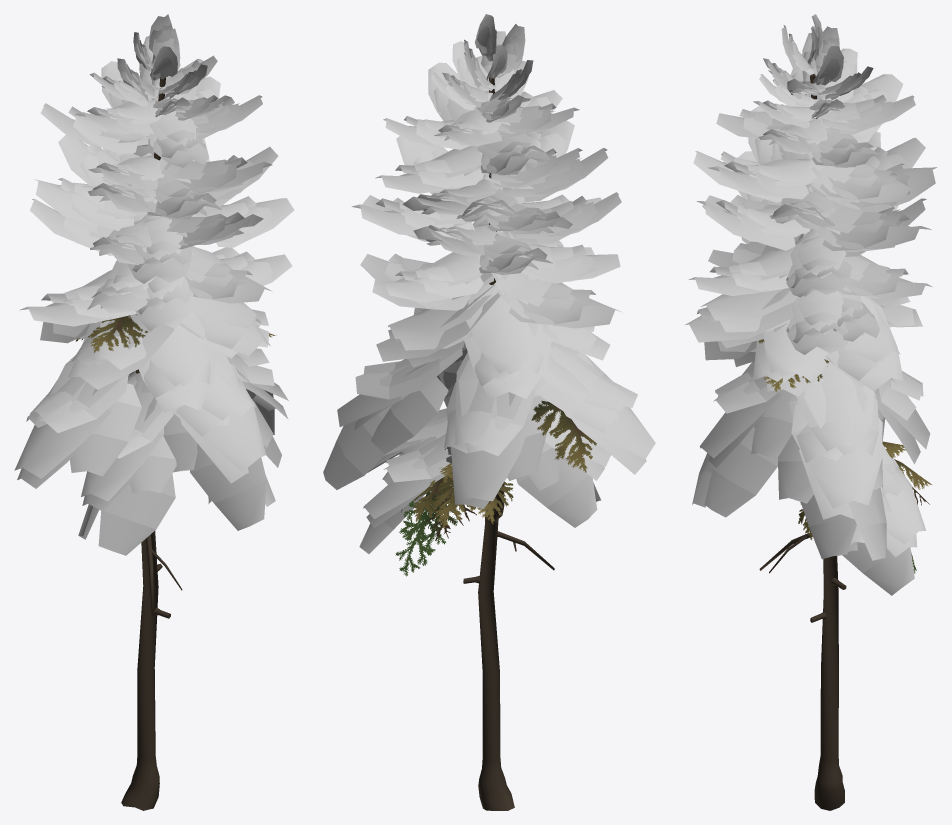
The model's file is Fir_Gr+Ân.L.A.X1.fbx.
The picture shows the model from 3 angles, left to right: view 1: azimuth 30°, elevation 25°; view 2: azimuth 150°, elevation 25°; view 3: azimuth 270°, elevation 25°; orthographic projection.
Visible parts, largest first — view 1: Fir_Grön_L_A_X1; view 2: Fir_Grön_L_A_X1; view 3: Fir_Grön_L_A_X1.
Part boxes in pixels (x1,y1,x2,y2): Fir_Grön_L_A_X1: (14, 14, 294, 810); Fir_Grön_L_A_X1: (323, 14, 655, 810); Fir_Grön_L_A_X1: (684, 14, 937, 810).
Size of the model in its own units: 644 by 1664 by 480.
